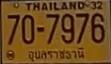0: (21, 14, 34, 43)
6: (90, 12, 104, 42)
7: (75, 12, 88, 43), (7, 14, 19, 44), (46, 13, 58, 43)
9: (61, 13, 74, 43)
UBN: (27, 48, 86, 63)
